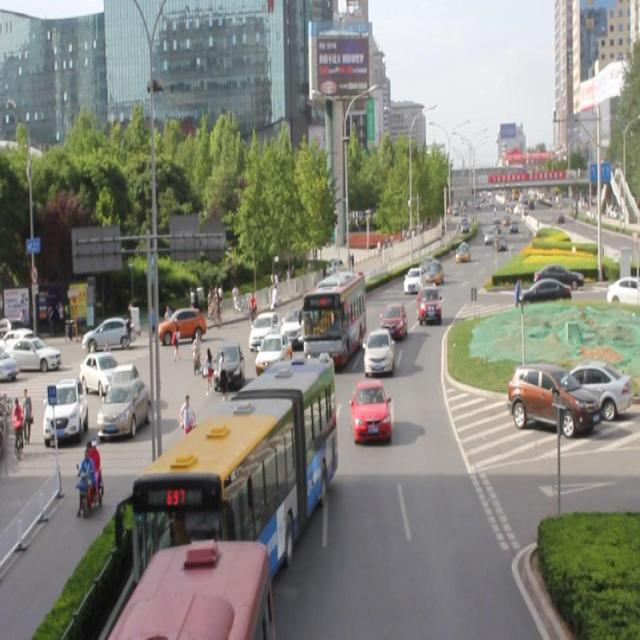car: (253, 363, 297, 423), (351, 380, 392, 443), (211, 337, 245, 392), (254, 333, 293, 375), (248, 308, 281, 352), (364, 328, 394, 376), (280, 304, 313, 347), (417, 284, 440, 324), (381, 303, 406, 339), (403, 266, 424, 293), (426, 263, 444, 286)
van: (138, 363, 334, 579), (126, 540, 270, 640), (305, 271, 366, 358)
